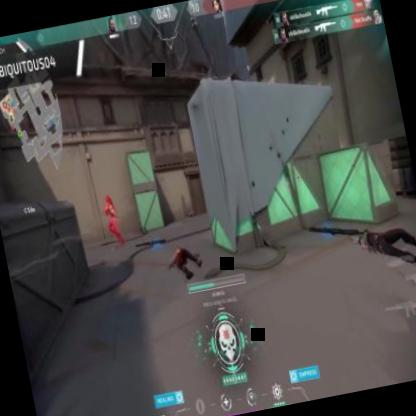enemy: (101, 194, 123, 246)
enemy_head: (105, 197, 110, 206)
